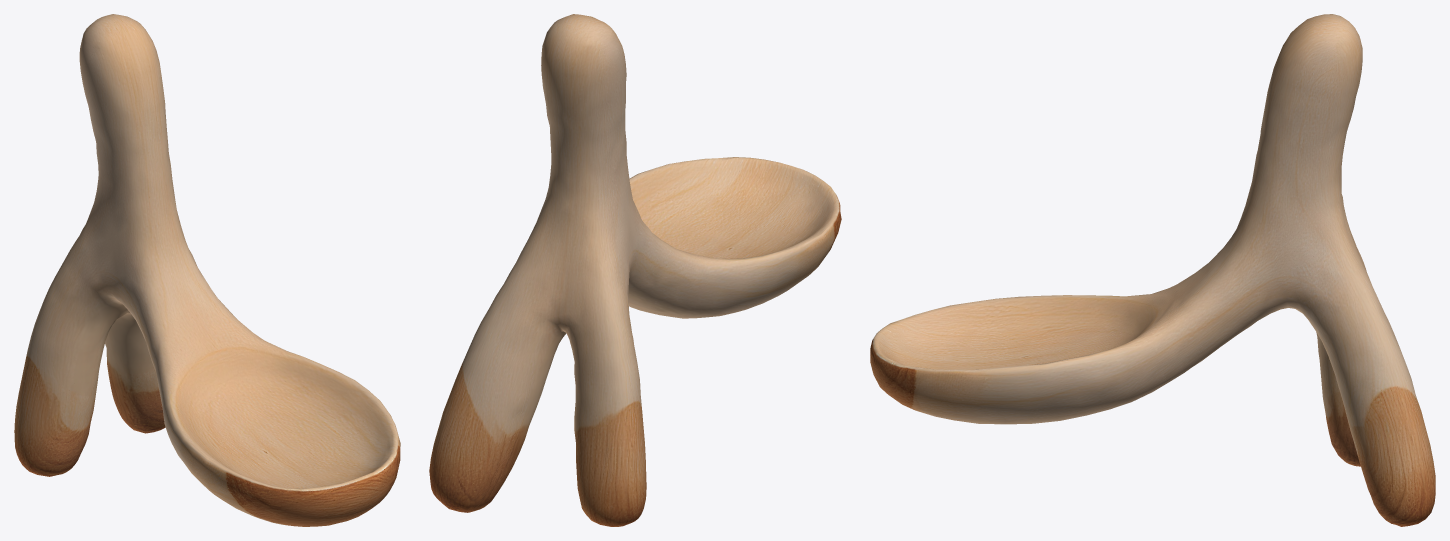
File: spiseredskap_04.glb
The picture shows the model from 3 angles, left to right: view 1: azimuth 30°, elevation 25°; view 2: azimuth 150°, elevation 25°; view 3: azimuth 270°, elevation 25°; orthographic projection. The views are drawn at different scales.
Parts seen in each view (by area): view 1: tripo_node_20501138-3eef-4550-910c-65b5e557517a; view 2: tripo_node_20501138-3eef-4550-910c-65b5e557517a; view 3: tripo_node_20501138-3eef-4550-910c-65b5e557517a.
Part boxes in pixels (<box>): tripo_node_20501138-3eef-4550-910c-65b5e557517a: <box>14,14,400,526</box>; tripo_node_20501138-3eef-4550-910c-65b5e557517a: <box>429,14,841,526</box>; tripo_node_20501138-3eef-4550-910c-65b5e557517a: <box>870,14,1435,526</box>.
Bounding box in the file's own units: 0.3887 × 0.9121 × 0.998.
1 material, 1 textured.
